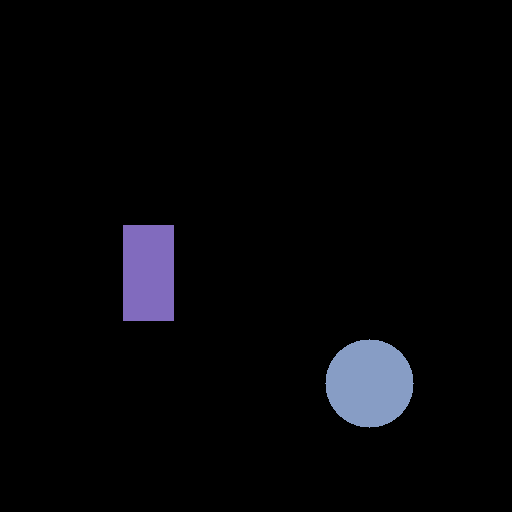circle: (325, 339, 413, 427)
rectangle: (123, 225, 173, 320)
